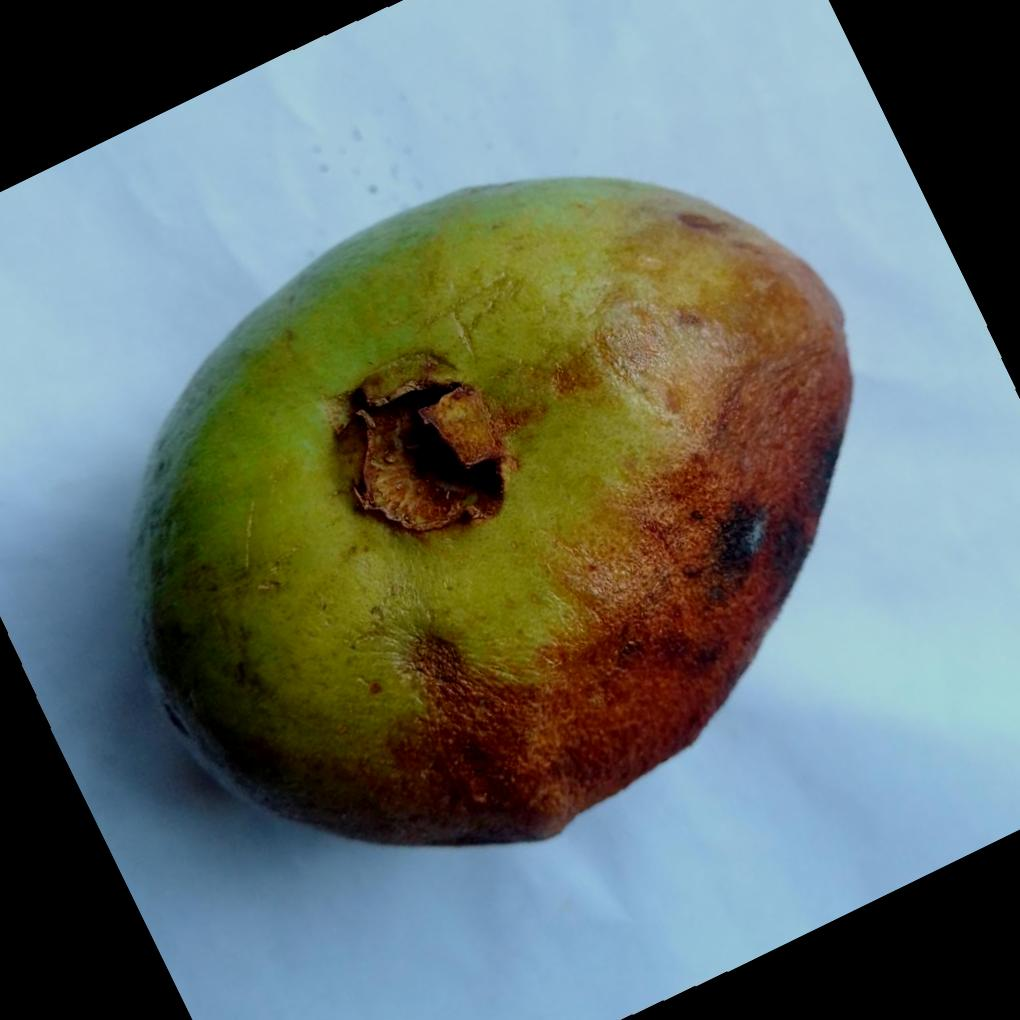FreshOrange: (133, 175, 851, 851)
